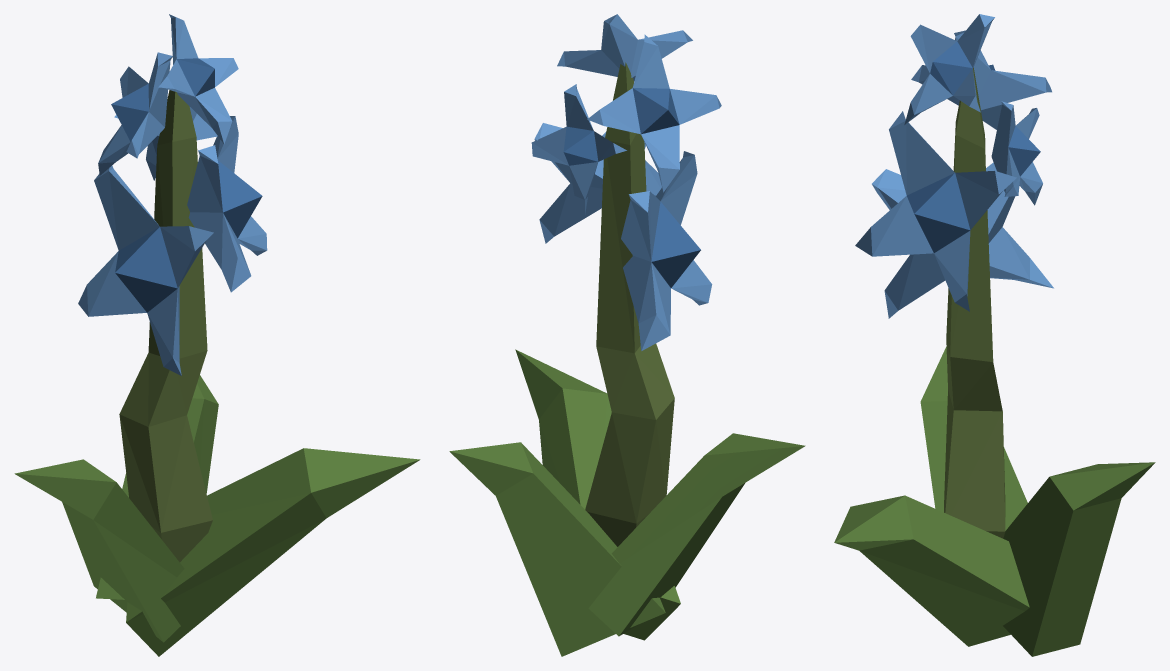
The model's file is SM_Env_Plant_01.gltf.
3 views of the same model, side by side, from view 1: azimuth 30°, elevation 25°; view 2: azimuth 150°, elevation 25°; view 3: azimuth 270°, elevation 25° (orthographic). The views are drawn at different scales.
Parts seen in each view (by area): view 1: SM_Env_Plant_01; view 2: SM_Env_Plant_01; view 3: SM_Env_Plant_01.
Part boxes in pixels (<box>): SM_Env_Plant_01: <box>14,14,420,656</box>; SM_Env_Plant_01: <box>449,14,805,656</box>; SM_Env_Plant_01: <box>834,14,1155,656</box>.
Bounding box in the file's own units: 0.5243 × 0.9024 × 0.4086.
1 material, 1 textured.
